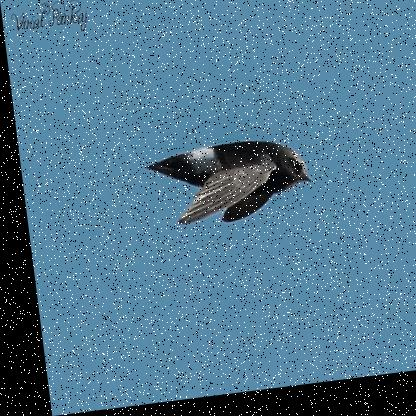Burung: (139, 141, 309, 234)
